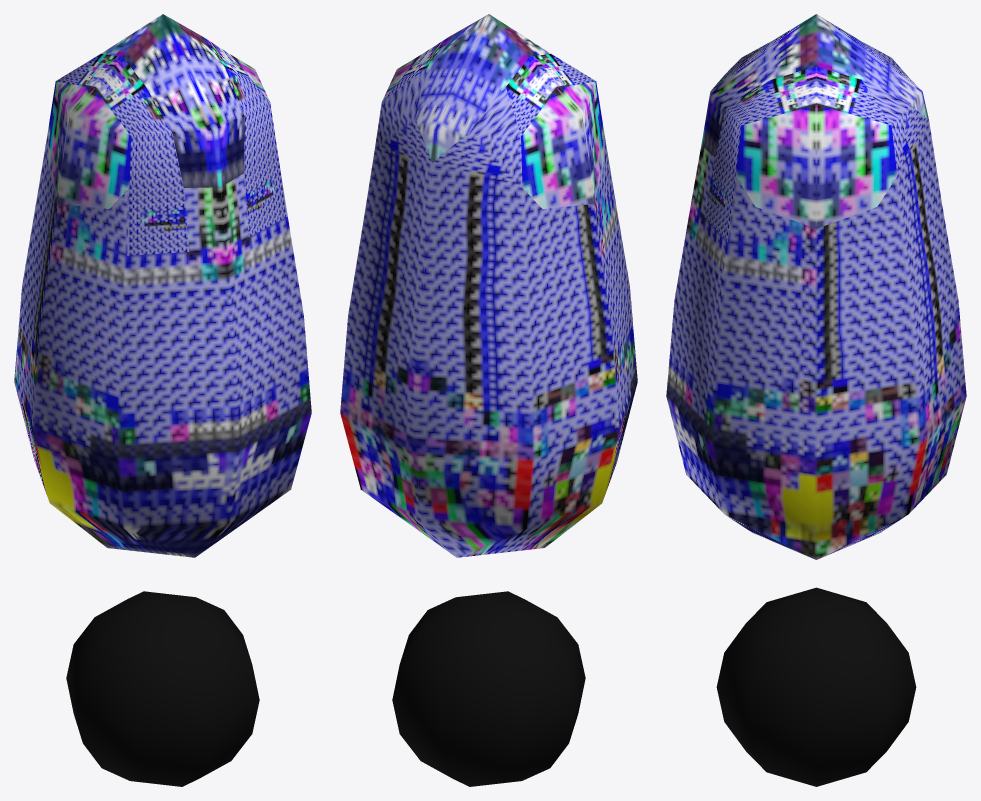
Rendered from cloth_mario_model.glb.
The picture shows the model from 3 angles, left to right: view 1: azimuth 30°, elevation 25°; view 2: azimuth 150°, elevation 25°; view 3: azimuth 270°, elevation 25°; orthographic projection.
Visible parts, largest first — view 1: cloth_mario_model; view 2: cloth_mario_model; view 3: cloth_mario_model.
Part boxes in pixels (x1,y1,x2,y2): cloth_mario_model: [14, 14, 311, 786]; cloth_mario_model: [340, 14, 637, 786]; cloth_mario_model: [666, 14, 966, 786].
Bounding box in the file's own units: 30.77 × 86.34 × 30.77.
1 material, 1 textured.
